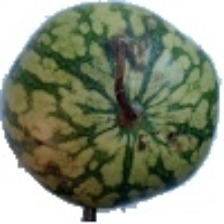watermelon: (28, 15, 176, 197)
